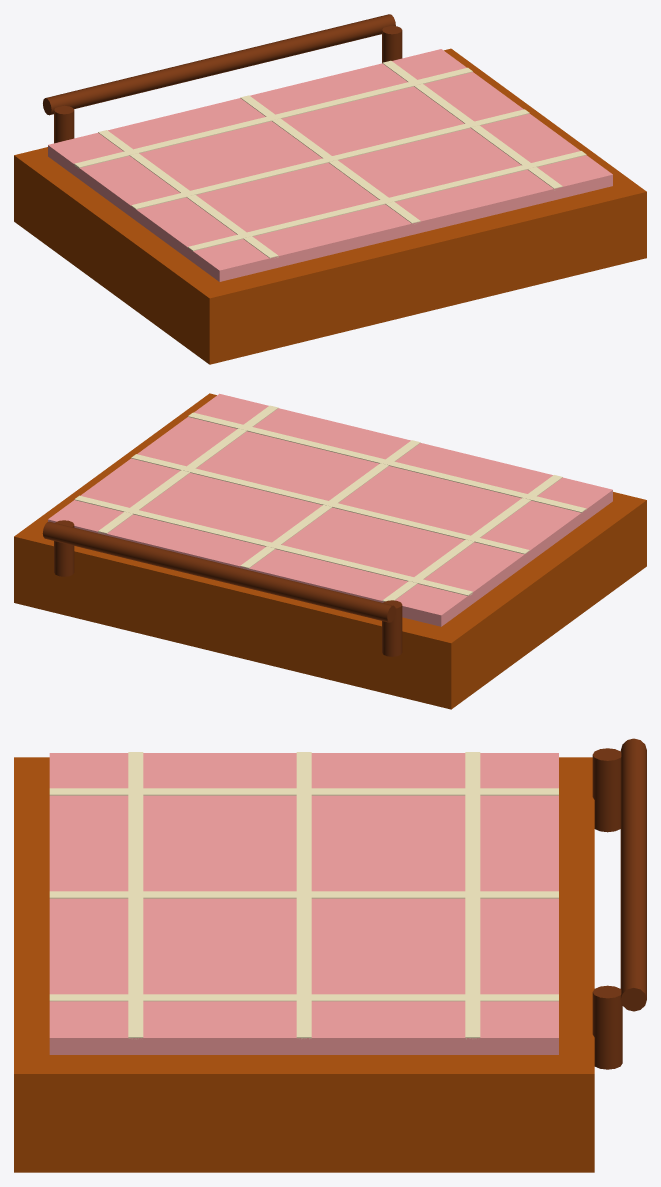
Rendered from toy_barn_picnic_basket.glb.
The picture shows the model from 3 angles, top to bottom: view 1: azimuth 30°, elevation 25°; view 2: azimuth 150°, elevation 25°; view 3: azimuth 270°, elevation 25°; orthographic projection. The views are drawn at different scales.
Parts seen in each view (by area): view 1: solid_2, solid_1, solid_9, solid_6, solid_7, solid_8, solid_3, solid_5, solid_4, solid_10, solid_11; view 2: solid_2, solid_1, solid_9, solid_6, solid_8, solid_7, solid_5, solid_4, solid_3, solid_10, solid_11; view 3: solid_2, solid_1, solid_9, solid_7, solid_8, solid_6, solid_3, solid_4, solid_5, solid_11, solid_10.
Part boxes in pixels (<box>): solid_2: <box>48,49,612,281</box>; solid_1: <box>14,48,646,364</box>; solid_9: <box>43,14,395,115</box>; solid_6: <box>74,67,472,168</box>; solid_7: <box>131,109,529,209</box>; solid_8: <box>188,151,586,250</box>; solid_3: <box>98,130,278,258</box>; solid_5: <box>382,60,562,190</box>; solid_4: <box>240,95,420,224</box>; solid_10: <box>54,105,74,143</box>; solid_11: <box>382,25,402,62</box>; solid_2: <box>48,393,612,626</box>; solid_1: <box>14,393,646,709</box>; solid_9: <box>42,521,395,622</box>; solid_6: <box>74,495,472,595</box>; solid_8: <box>188,412,586,512</box>; solid_7: <box>131,454,529,554</box>; solid_5: <box>98,405,278,534</box>; solid_4: <box>240,440,420,568</box>; solid_3: <box>382,475,562,601</box>; solid_10: <box>382,600,402,656</box>; solid_11: <box>54,520,74,576</box>; solid_2: <box>49,753,558,1054</box>; solid_1: <box>14,757,594,1172</box>; solid_9: <box>620,738,646,1011</box>; solid_7: <box>296,752,311,1039</box>; solid_8: <box>128,752,143,1039</box>; solid_6: <box>465,752,480,1039</box>; solid_3: <box>49,788,558,795</box>; solid_4: <box>49,891,558,898</box>; solid_5: <box>49,994,558,1001</box>; solid_11: <box>592,985,622,1069</box>; solid_10: <box>592,748,621,832</box>.
Bounding box in the file's own units: 4 × 0.89 × 3.38.
